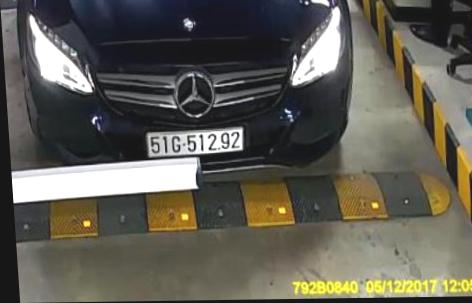License_Plate: (146, 125, 248, 157)
